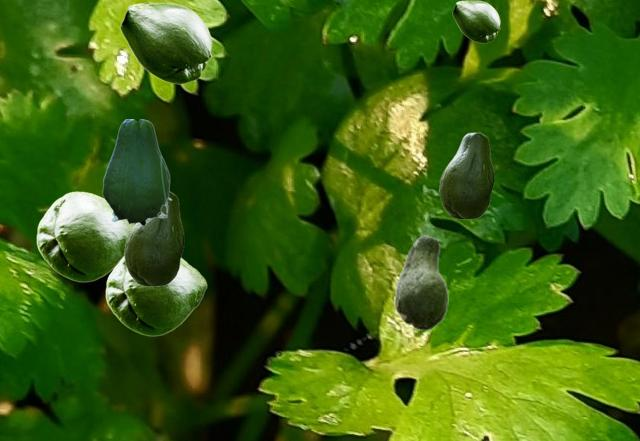sayote: (36, 191, 133, 281), (105, 257, 206, 335), (102, 119, 171, 227), (120, 2, 211, 83), (124, 191, 183, 285), (394, 235, 447, 330), (439, 132, 493, 218), (452, 0, 499, 42)
